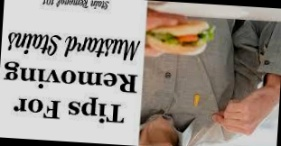mustard: (189, 91, 202, 109)
